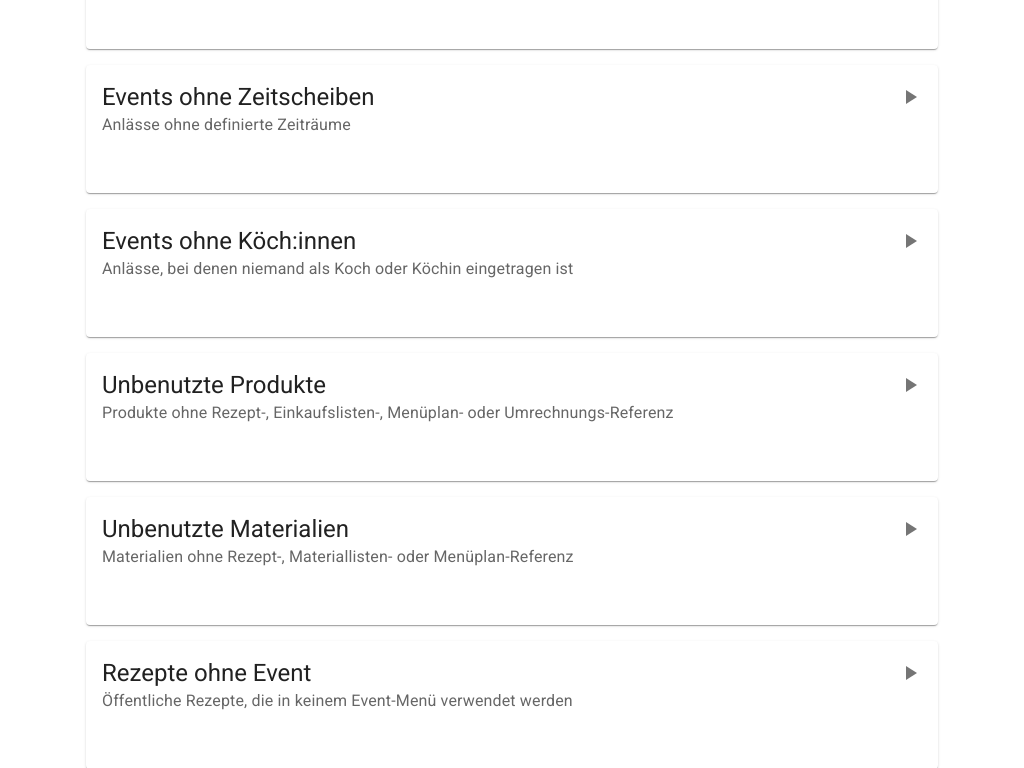
Test case: DataIntegrityPage — Rezepte ohne Produkt/Material › andere Prüfungen zeigen kein «Rezept öffnen»
The image size is (1024, 768).
(page scrolled)
Click the button named "Unbenutzte Produkte ausführen": (910,385) [890, 365, 930, 405]
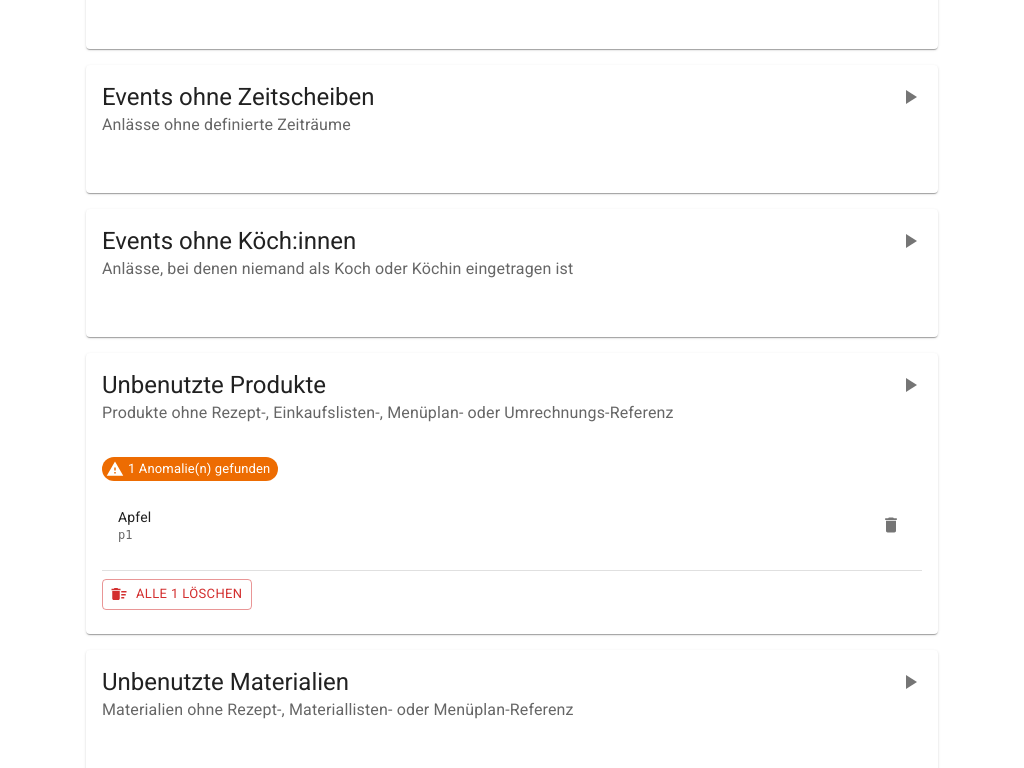
expect the text "Apfel" is shown: met, box [118, 509, 151, 525]
